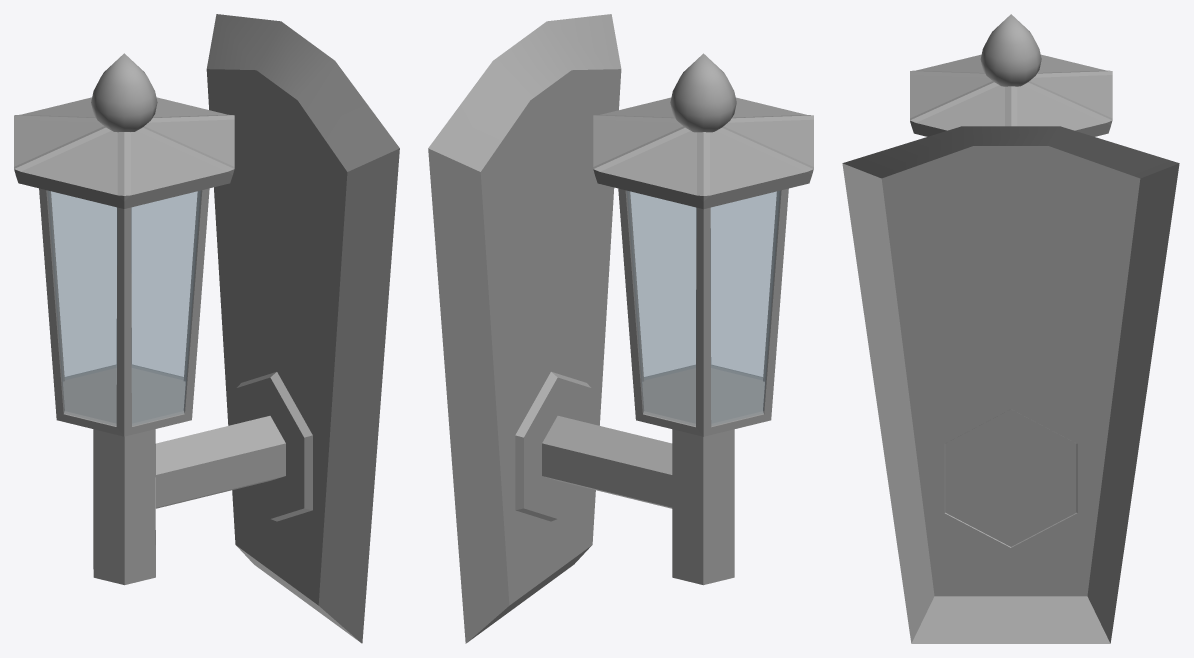
The model's file is itemMesh_creoleIs_wallLight.fbx.
3 renders of one model, left to right at view 1: azimuth 30°, elevation 25°; view 2: azimuth 150°, elevation 25°; view 3: azimuth 270°, elevation 25°, orthographic. The views are drawn at different scales.
Parts seen in each view (by area): view 1: Lantern_Wall; view 2: Lantern_Wall; view 3: Lantern_Wall.
Part boxes in pixels (box(x1,y1,x2,y2)): Lantern_Wall: box(14, 14, 399, 643); Lantern_Wall: box(428, 14, 813, 643); Lantern_Wall: box(842, 14, 1179, 643).
Size of the model in its own units: 0.5102 by 0.988 by 0.5515.
